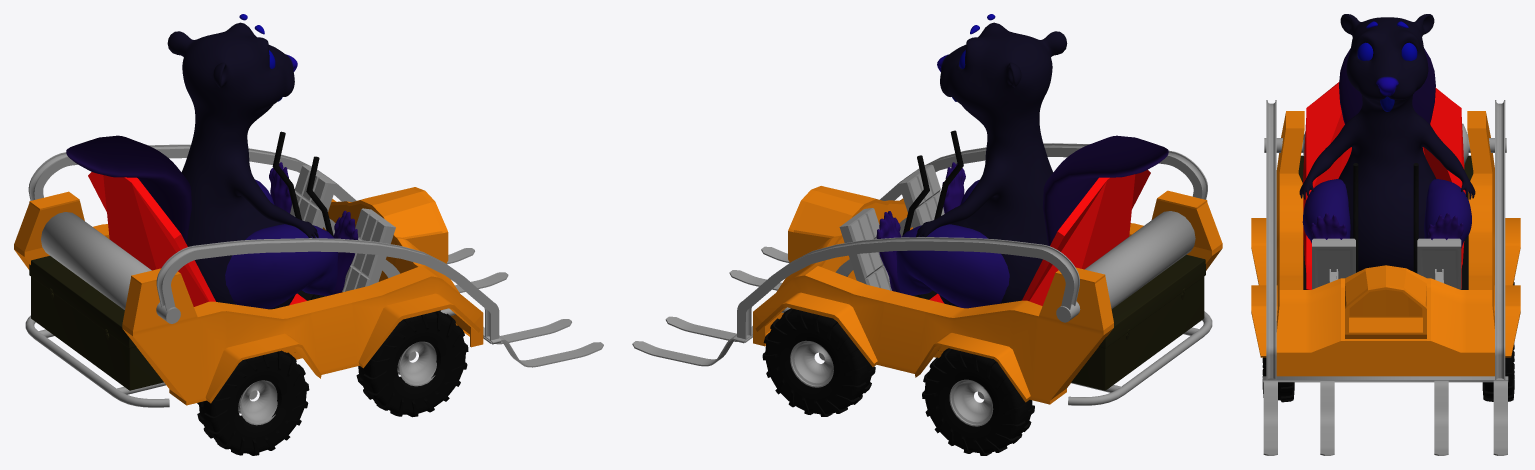
Rendered from SM_bobcat_w_castor.FBX.
3 renders of one model, left to right at view 1: azimuth 30°, elevation 25°; view 2: azimuth 150°, elevation 25°; view 3: azimuth 270°, elevation 25°, orthographic. The views are drawn at different scales.
Visible parts, largest first — view 1: SM_Castor_sitting, SM_bobcat_body001, SM_bobcat_pelle, SM_bobcat_trunk, SM_bobcat_Wheel-FR, SM_bobcat_Wheel-RR, SM_bobcat_seat, SM_bobcat_pedale, SM_bobcat_rim, SM_bobcat_frame, SM_bobcat_levier_L; view 2: SM_Castor_sitting, SM_bobcat_body001, SM_bobcat_pelle, SM_bobcat_trunk, SM_bobcat_Wheel-FL, SM_bobcat_Wheel-RL, SM_bobcat_seat, SM_bobcat_pedale, SM_bobcat_rim, SM_bobcat_frame, SM_bobcat_levier_R; view 3: SM_bobcat_body001, SM_Castor_sitting, SM_bobcat_pelle, SM_bobcat_seat, SM_bobcat_pedale, SM_bobcat_levier_L, SM_bobcat_Wheel-FL, SM_bobcat_levier_R, SM_bobcat_floor, SM_bobcat_Wheel-FR, SM_bobcat_trunk.
Boxes of the visible parts, left/top/right/bottom form: SM_Castor_sitting: left=66, top=14, right=358, bottom=309; SM_bobcat_body001: left=14, top=187, right=483, bottom=405; SM_bobcat_pelle: left=28, top=144, right=603, bottom=367; SM_bobcat_trunk: left=29, top=256, right=163, bottom=390; SM_bobcat_Wheel-FR: left=356, top=310, right=468, bottom=417; SM_bobcat_Wheel-RR: left=197, top=350, right=309, bottom=455; SM_bobcat_seat: left=88, top=172, right=306, bottom=306; SM_bobcat_pedale: left=290, top=165, right=399, bottom=291; SM_bobcat_rim: left=238, top=341, right=436, bottom=425; SM_bobcat_frame: left=25, top=308, right=455, bottom=407; SM_bobcat_levier_L: left=272, top=131, right=301, bottom=220; SM_Castor_sitting: left=876, top=14, right=1168, bottom=308; SM_bobcat_body001: left=753, top=186, right=1222, bottom=404; SM_bobcat_pelle: left=632, top=143, right=1207, bottom=366; SM_bobcat_trunk: left=1071, top=254, right=1205, bottom=390; SM_bobcat_Wheel-FL: left=762, top=308, right=875, bottom=416; SM_bobcat_Wheel-RL: left=922, top=348, right=1034, bottom=455; SM_bobcat_seat: left=929, top=169, right=1150, bottom=305; SM_bobcat_pedale: left=835, top=164, right=944, bottom=290; SM_bobcat_rim: left=790, top=340, right=993, bottom=426; SM_bobcat_frame: left=781, top=307, right=1212, bottom=405; SM_bobcat_levier_R: left=934, top=130, right=963, bottom=219; SM_bobcat_body001: left=1251, top=111, right=1520, bottom=376; SM_Castor_sitting: left=1299, top=14, right=1475, bottom=271; SM_bobcat_pelle: left=1263, top=100, right=1508, bottom=455; SM_bobcat_seat: left=1302, top=82, right=1465, bottom=289; SM_bobcat_pedale: left=1312, top=238, right=1461, bottom=289; SM_bobcat_levier_L: left=1413, top=163, right=1418, bottom=273; SM_bobcat_Wheel-FL: left=1482, top=344, right=1514, bottom=401; SM_bobcat_levier_R: left=1353, top=163, right=1358, bottom=272; SM_bobcat_floor: left=1303, top=235, right=1468, bottom=289; SM_bobcat_Wheel-FR: left=1262, top=357, right=1294, bottom=402; SM_bobcat_trunk: left=1298, top=155, right=1473, bottom=199.
Size of the model in its own units: 3.75 by 2.85 by 2.1.
